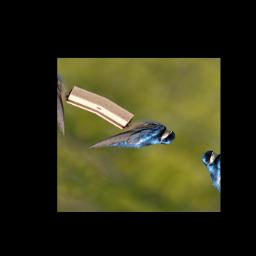Swallow: (87, 101, 182, 178)
